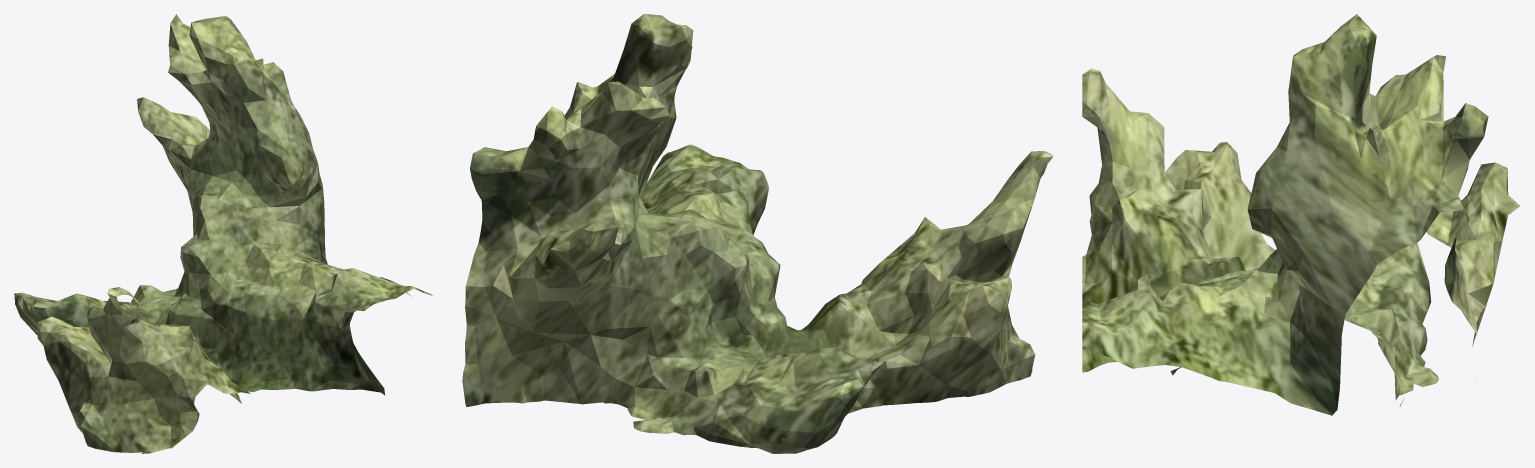
3 renders of one model, left to right at view 1: azimuth 30°, elevation 25°; view 2: azimuth 150°, elevation 25°; view 3: azimuth 270°, elevation 25°, orthographic. The views are drawn at different scales.
Size of the model in its own units: 5.61 by 4.92 by 5.33.
Materials: 4 (4 with a texture image).
